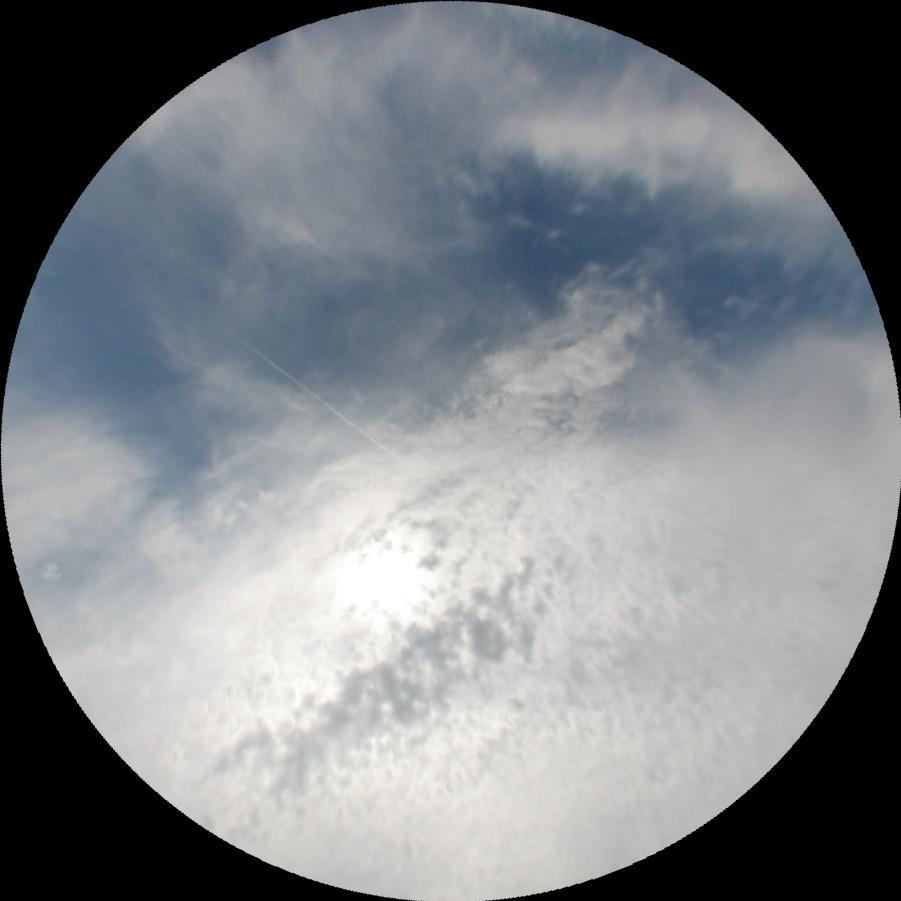contrail young: (206, 312, 397, 459)
sun: (331, 536, 429, 619)
